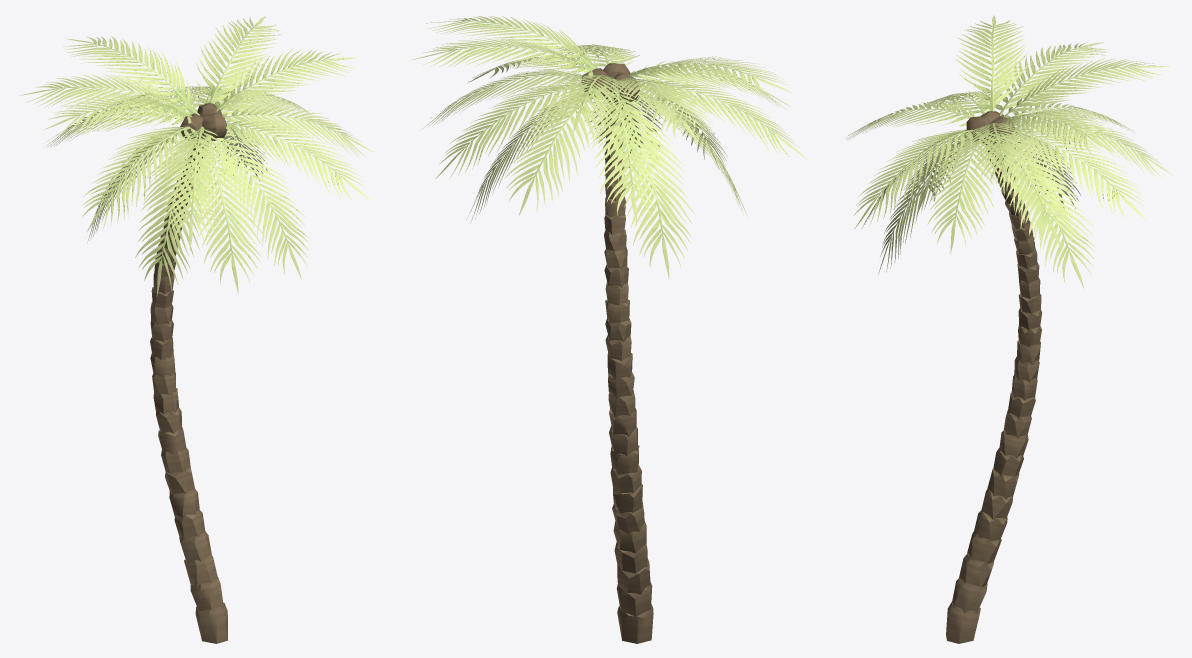
File: coconut tree3.fbx
3 renders of one model, left to right at view 1: azimuth 30°, elevation 25°; view 2: azimuth 150°, elevation 25°; view 3: azimuth 270°, elevation 25°, orthographic. The views are drawn at different scales.
Visible parts, largest first — view 1: leaf.002, trunk, fruit; view 2: leaf.002, trunk, fruit; view 3: leaf.002, trunk, fruit.
Part boxes in pixels (box(x1,y1,x2,y2)): leaf.002: box(19, 15, 373, 297); trunk: box(150, 136, 227, 643); fruit: box(180, 102, 226, 141); leaf.002: box(409, 16, 807, 279); trunk: box(604, 97, 653, 643); fruit: box(581, 63, 639, 104); leaf.002: box(847, 15, 1174, 288); trunk: box(946, 141, 1041, 643); fruit: box(966, 111, 1017, 143).
Size of the model in its own units: 675 by 1072 by 591.
